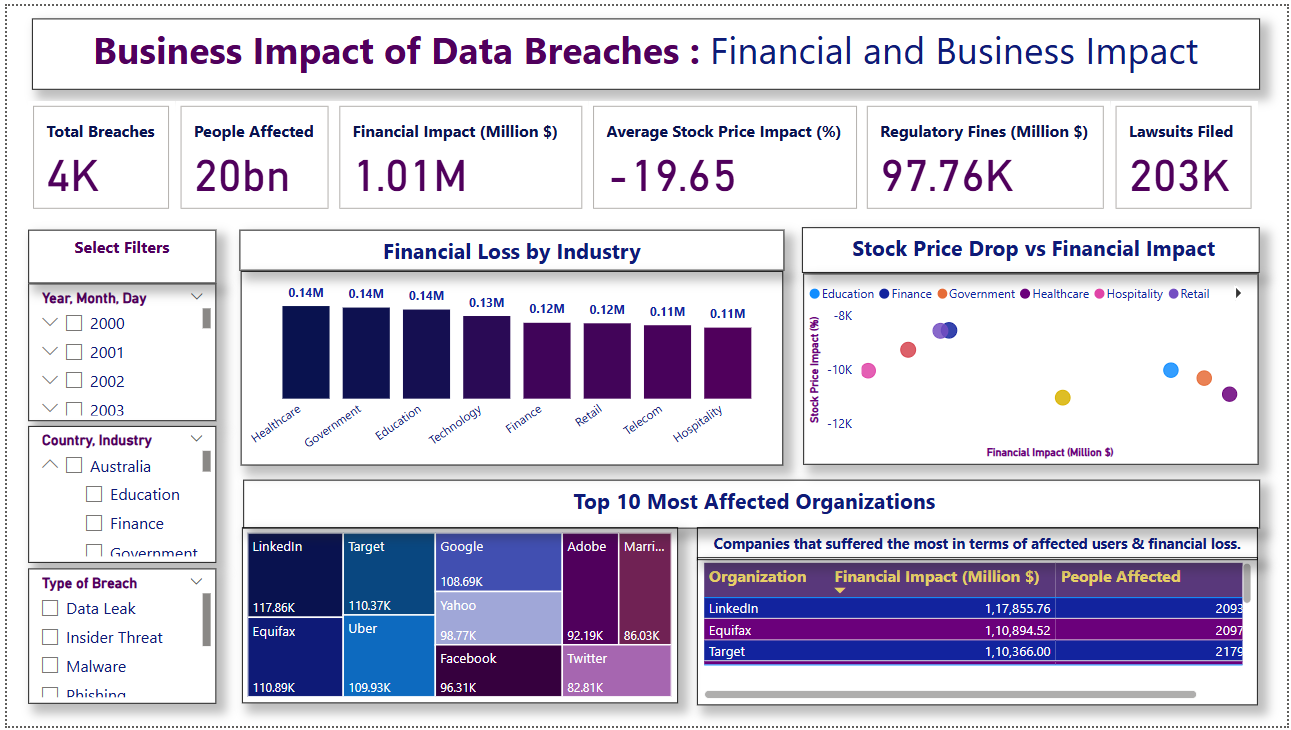

The page's visual inventory and layout, read from the dashboard file:
{"tool":"powerbi","page":{"name":"Financial & Business Impact","canvas":[1280,720],"ordinal":1},"visuals":[{"type":"textbox","box":[232.2,223.3,545.1,40.6],"z":0,"group":"g7"},{"type":"group","id":"g1","title":"Group 8","box":[20.8,277.6,188.3,420.3],"z":0,"group":"g5"},{"type":"group","id":"g2","title":"Group 1","box":[234.8,473.2,1017.4,225],"z":0},{"type":"group","id":"g3","title":"Group 2","box":[232.2,223.3,545.1,235.1],"z":1000},{"type":"textbox","box":[20.8,223.8,187.8,53.8],"z":1000,"group":"g5"},{"type":"group","id":"g4","title":"Group 3","box":[794.7,221.4,457.8,237.3],"z":2000},{"type":"textbox","box":[794.7,221.4,457.8,45.8],"z":2000,"group":"g4"},{"type":"group","id":"g5","title":"Group 9","box":[20.8,223.8,188.3,478.1],"z":3000},{"type":"clusteredColumnChart","fields":{"Y":["Sum(Sheet1.Financial Impact (Million $))"],"Category":["Sheet1.Industry"]},"box":[233,264.3,542.2,194.1],"z":3000,"group":"g7"},{"type":"slicer","fields":{"Values":["Sheet1.Date of Breach.Variation.Date Hierarchy.Year","Sheet1.Date of Breach.Variation.Date Hierarchy.Month","Sheet1.Date of Breach.Variation.Date Hierarchy.Day"]},"box":[20.8,277.6,188.3,138],"z":3000,"group":"g1"},{"type":"textbox","box":[24.5,12.2,1227.7,70.9],"z":4000},{"type":"scatterChart","fields":{"Y":["Sum(Sheet1.Stock Price Impact (%))"],"Size":["Avg(Sheet1.People Affected)"],"X":["Sum(Sheet1.Financial Impact (Million $))"],"Series":["Sheet1.Industry"]},"box":[796.5,267.2,455.4,191.6],"z":4000,"group":"g4"},{"type":"slicer","fields":{"Values":["Sheet1.Country","Sheet1.Industry"]},"box":[20.8,420,187.9,136.4],"z":4000,"group":"g1"},{"type":"group","id":"g6","title":"Group 7","box":[20.8,95.4,1228.9,113.7],"z":5000},{"type":"slicer","fields":{"Values":["Sheet1.Type of Breach"]},"box":[21,562.6,187.8,135.3],"z":5000,"group":"g1"},{"type":"group","id":"g7","title":"Group 4","box":[232.2,223.3,545.1,235.1],"z":5001,"group":"g3"},{"type":"cardVisual","fields":{"Data":["Avg(Sheet1.Stock Price Impact (%))"]},"box":[580.4,95.4,274.6,113.7],"z":6000,"group":"g6"},{"type":"tableEx","fields":{"Values":["Sheet1.Organization","Sheet1.Financial Impact (Million $)","Sum(Sheet1.People Affected)"]},"box":[689.3,550.5,560.6,147.7],"z":6000,"group":"g2"},{"type":"cardVisual","fields":{"Data":["Sheet1.Total Breaches"]},"box":[20.8,95.4,146.9,113.7],"z":7000,"group":"g6"},{"type":"treemap","fields":{"Group":["Sheet1.Organization"],"Values":["Sum(Sheet1.Financial Impact (Million $))"]},"box":[234.8,521.1,435.8,175.9],"z":7000,"group":"g2"},{"type":"cardVisual","fields":{"Data":["Sum(Sheet1.Regulatory Fines (Million $))"]},"box":[854.9,95.4,247.9,113.7],"z":8000,"group":"g6"},{"type":"textbox","box":[235.5,473.2,1016.7,48.8],"z":8000,"group":"g2"},{"type":"cardVisual","fields":{"Data":["Sum(Sheet1.Lawsuits Filed)"]},"box":[1102.8,95.4,146.9,113.7],"z":9000,"group":"g6"},{"type":"textbox","box":[689.3,520.3,560.6,33],"z":9000,"group":"g2"},{"type":"cardVisual","fields":{"Data":["Sum(Sheet1.People Affected)"]},"box":[167.7,95.4,158.8,113.7],"z":10000,"group":"g6"},{"type":"cardVisual","fields":{"Data":["Sum(Sheet1.Financial Impact (Million $))"]},"box":[326.6,95.4,253.8,113.7],"z":11000,"group":"g6"}]}

Visuals, with their boxes in screenshot pixels (x1, y1, x2, y2), scaled from the page's 1280x720 canvas onto the 1291x730 screenshot:
textbox: bbox=[234, 226, 784, 268]
"Group 8" group: bbox=[21, 281, 211, 708]
"Group 1" group: bbox=[237, 480, 1263, 708]
"Group 2" group: bbox=[234, 226, 784, 465]
textbox: bbox=[21, 227, 210, 281]
"Group 3" group: bbox=[802, 224, 1263, 465]
textbox: bbox=[802, 224, 1263, 271]
"Group 9" group: bbox=[21, 227, 211, 712]
clusteredColumnChart - Sum(Sheet1.Financial Impact (Million $)) x Sheet1.Industry: bbox=[235, 268, 782, 465]
slicer - Sheet1.Date of Breach.Variation.Date Hierarchy.Year x Sheet1.Date of Breach.Variation.Date Hierarchy.Month: bbox=[21, 281, 211, 421]
textbox: bbox=[25, 12, 1263, 84]
scatterChart - Sum(Sheet1.Stock Price Impact (%)) x Avg(Sheet1.People Affected): bbox=[803, 271, 1263, 465]
slicer - Sheet1.Country x Sheet1.Industry: bbox=[21, 426, 210, 564]
"Group 7" group: bbox=[21, 97, 1260, 212]
slicer - Sheet1.Type of Breach: bbox=[21, 570, 211, 708]
"Group 4" group: bbox=[234, 226, 784, 465]
cardVisual - Avg(Sheet1.Stock Price Impact (%)): bbox=[585, 97, 862, 212]
tableEx - Sheet1.Organization x Sheet1.Financial Impact (Million $): bbox=[695, 558, 1261, 708]
cardVisual - Sheet1.Total Breaches: bbox=[21, 97, 169, 212]
treemap - Sheet1.Organization x Sum(Sheet1.Financial Impact (Million $)): bbox=[237, 528, 676, 707]
cardVisual - Sum(Sheet1.Regulatory Fines (Million $)): bbox=[862, 97, 1112, 212]
textbox: bbox=[238, 480, 1263, 529]
cardVisual - Sum(Sheet1.Lawsuits Filed): bbox=[1112, 97, 1260, 212]
textbox: bbox=[695, 528, 1261, 561]
cardVisual - Sum(Sheet1.People Affected): bbox=[169, 97, 329, 212]
cardVisual - Sum(Sheet1.Financial Impact (Million $)): bbox=[329, 97, 585, 212]
